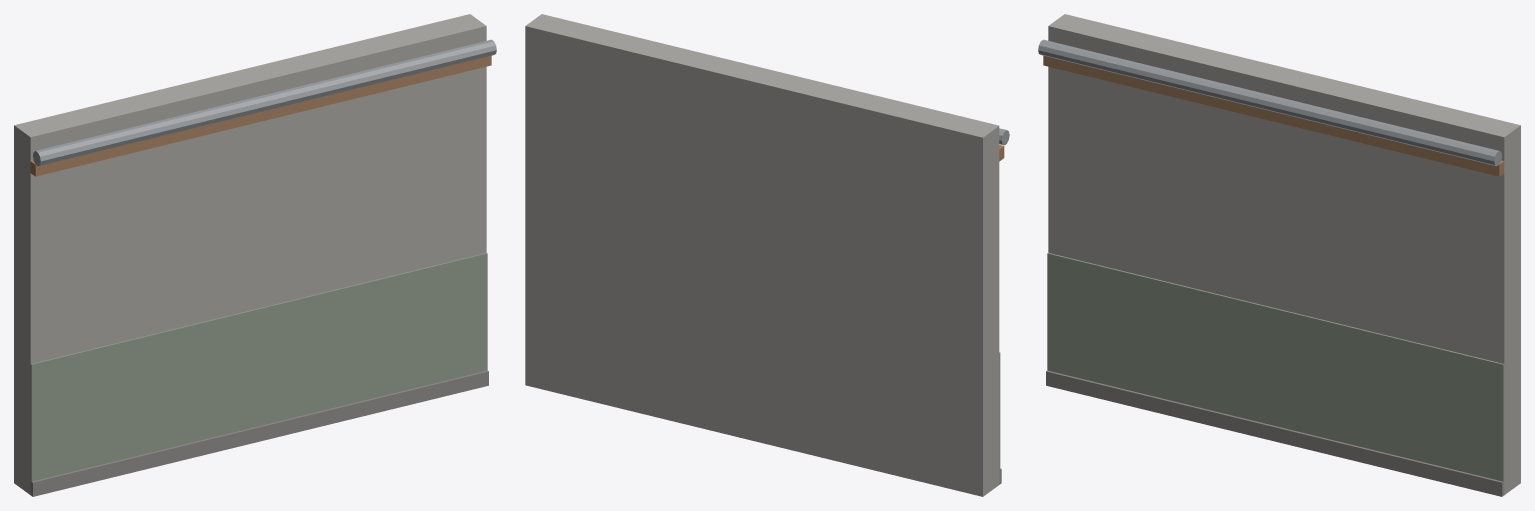
The model's file is kit_wall.glb.
3 views of the same model, side by side, from view 1: azimuth 30°, elevation 25°; view 2: azimuth 150°, elevation 25°; view 3: azimuth 330°, elevation 25° (orthographic).
Parts seen in each view (by area): view 1: kit_wall; view 2: kit_wall; view 3: kit_wall.
Part boxes in pixels (bbox=[...]): kit_wall: bbox=[14, 14, 496, 496]; kit_wall: bbox=[525, 14, 1009, 496]; kit_wall: bbox=[1038, 14, 1520, 496].
Bounding box in the file's own units: 4 × 3 × 0.4048.
